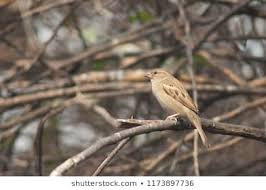hsparrow: (142, 67, 213, 146)
